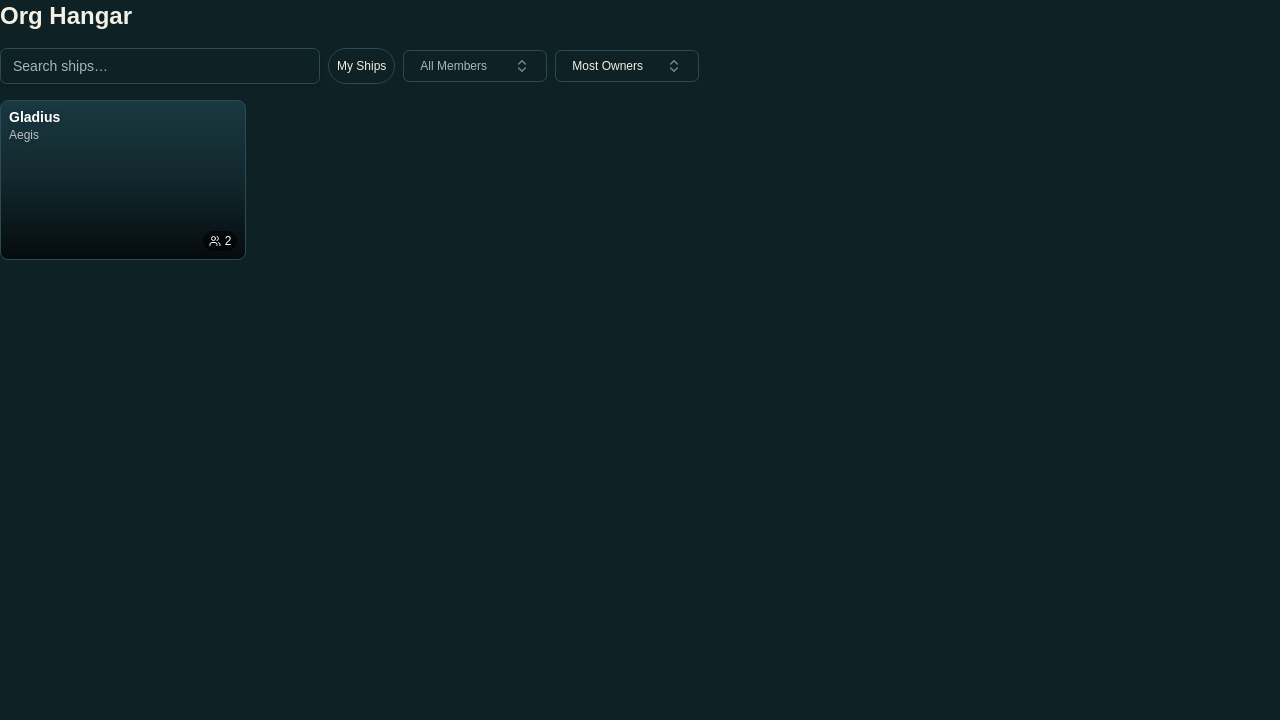
Test: OrgHangarView › changing sort updates the dropdown value
This screenshot has width=1280, height=720.
Click the dropdown named "sort by": (627, 66) 555,50 -> 699,82
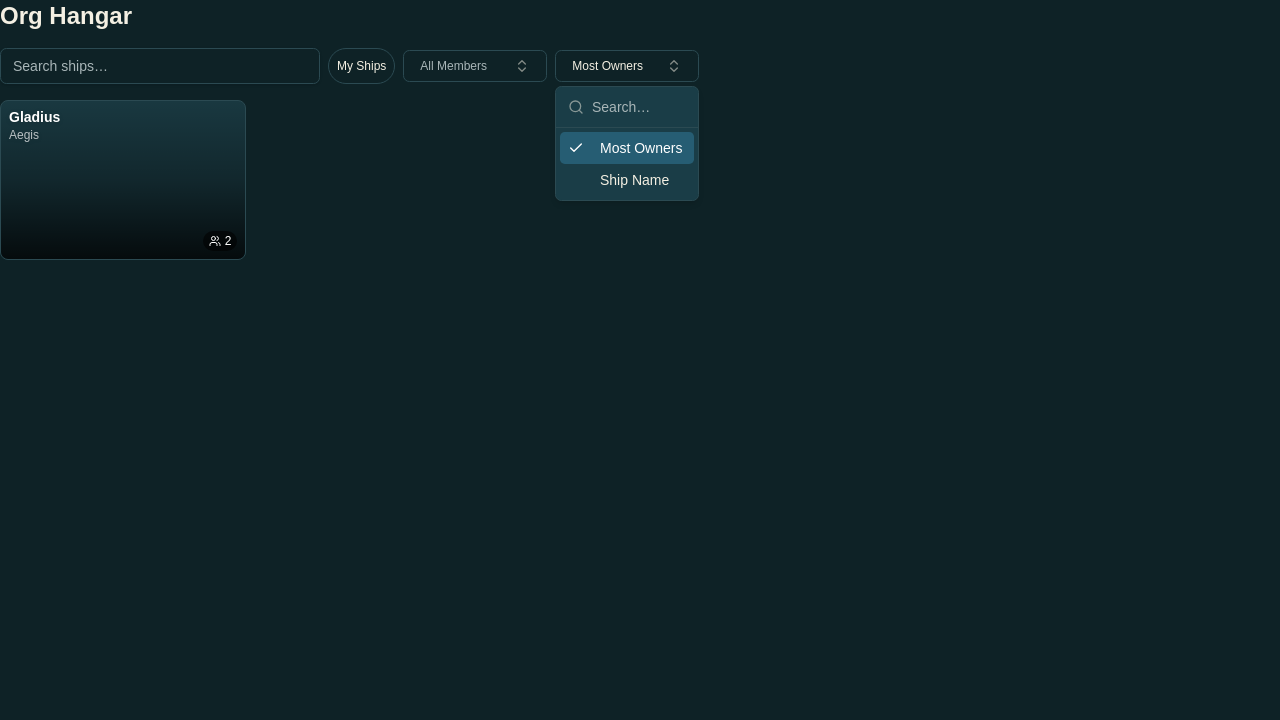
Click the option "Ship Name": (635, 180) 600,172 -> 669,188
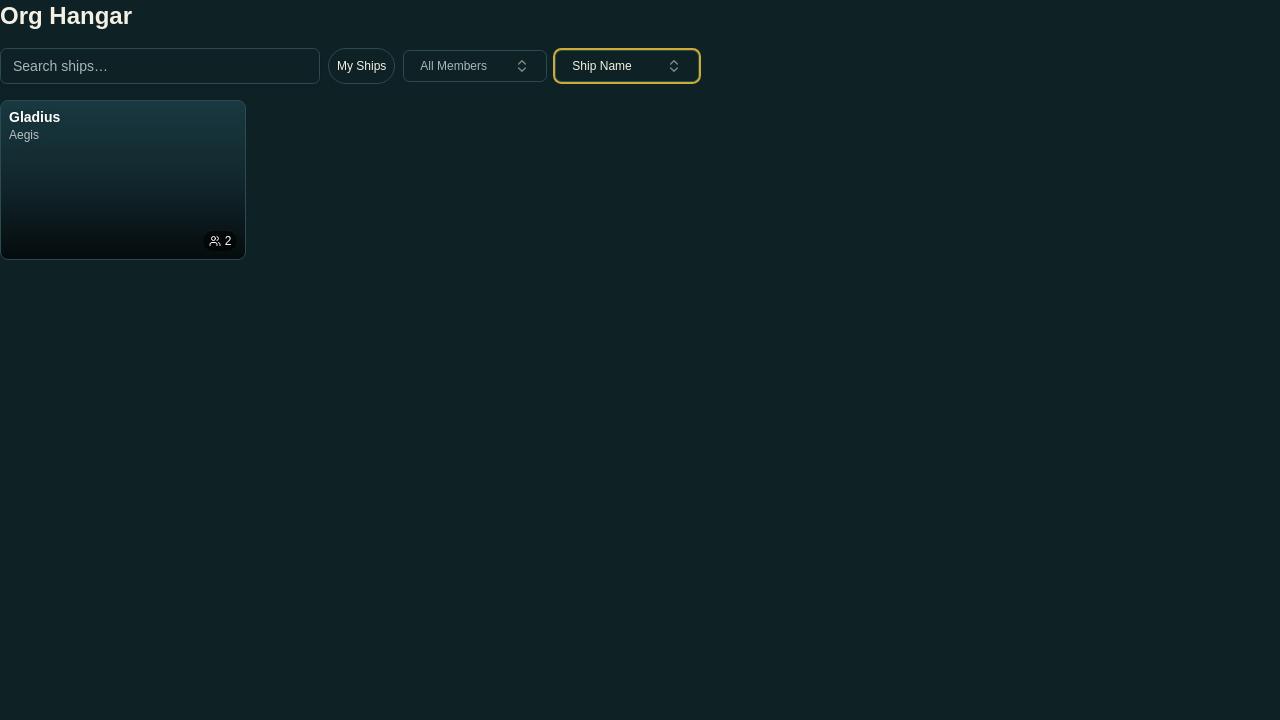
Now the dropdown named "sort by" reads "Ship Name", box 555,50 -> 699,82
